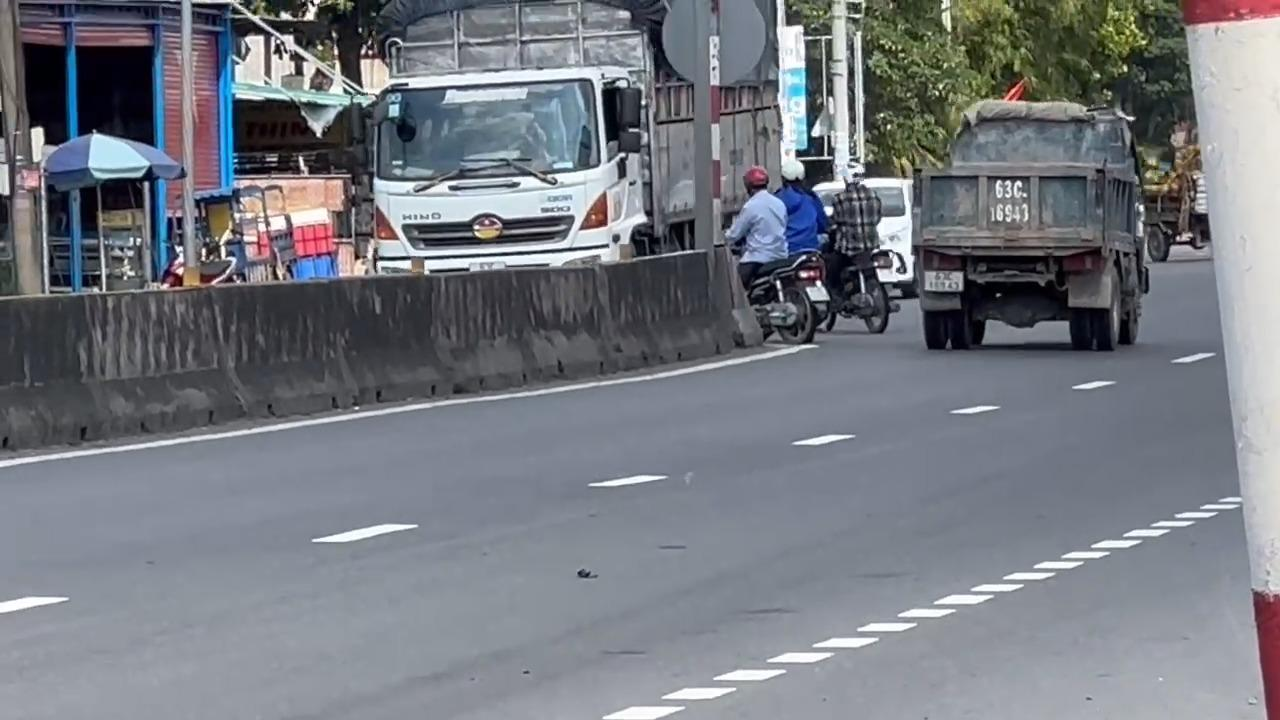bien_so: (923, 268, 964, 293)
